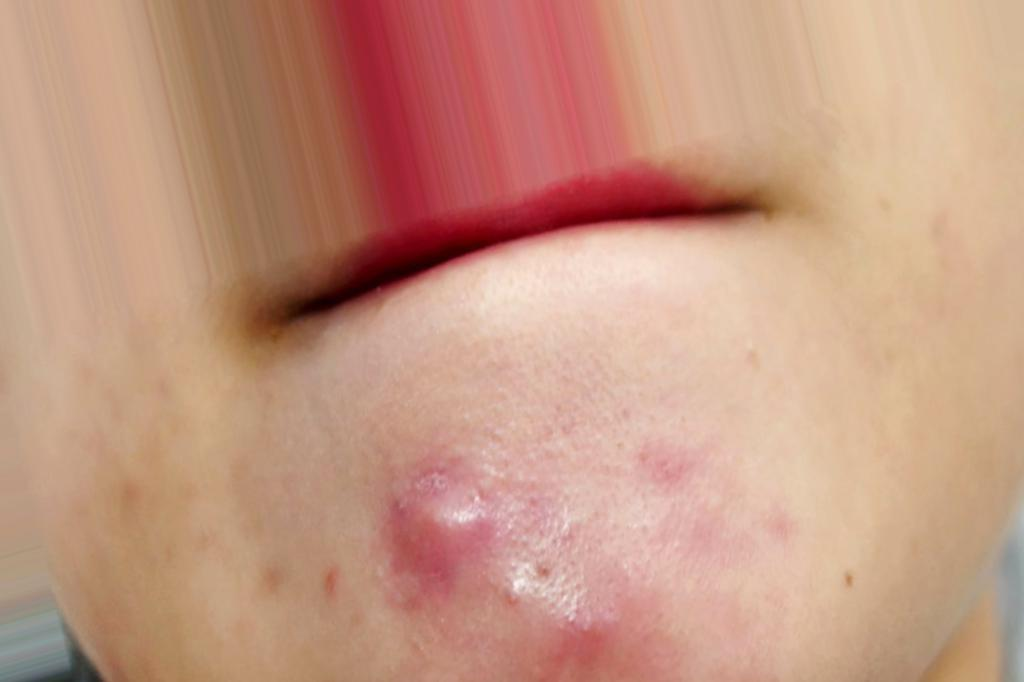Acne: (299, 422, 706, 665)
